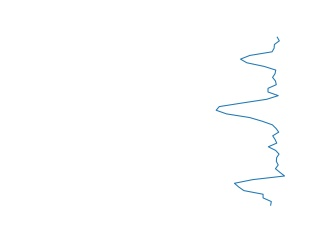underwaterNaturalLevee: (213, 35, 290, 207)
